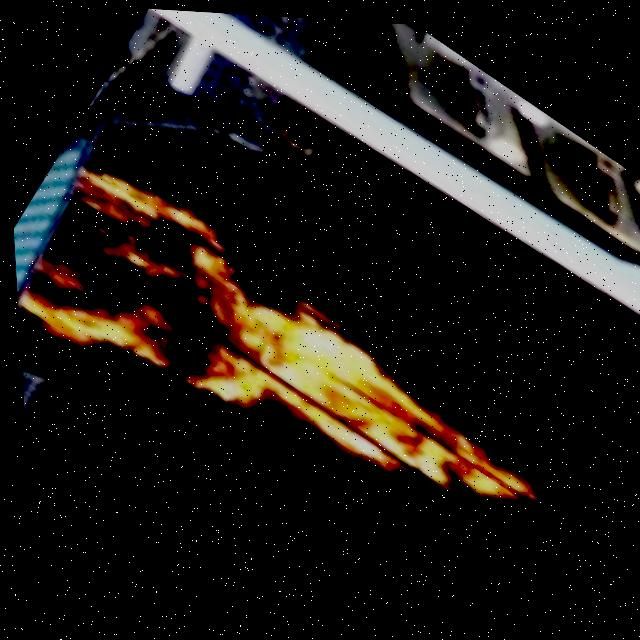Fire: (6, 136, 555, 608)
